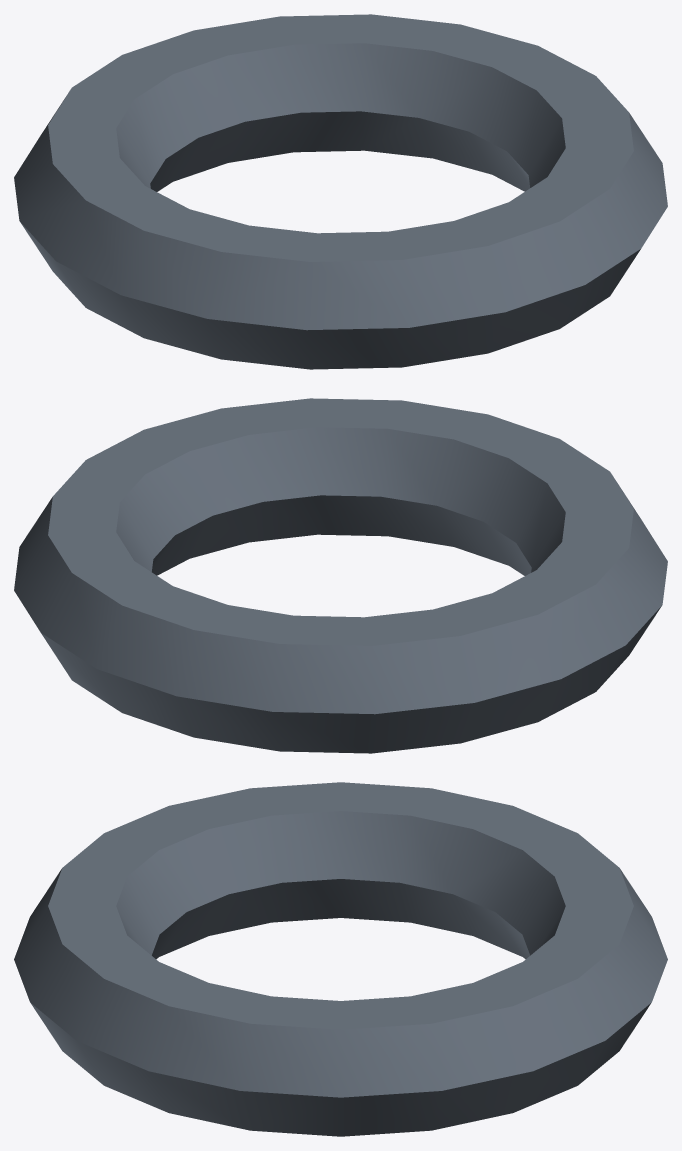
Rendered from collar.glb.
3 views of the same model, one above another, from view 1: azimuth 30°, elevation 25°; view 2: azimuth 150°, elevation 25°; view 3: azimuth 270°, elevation 25° (orthographic).
Visible parts, largest first — view 1: collar; view 2: collar; view 3: collar.
Boxes of the visible parts, x1,y1,x2,y2 form: collar: (14,14,667,369); collar: (14,398,667,753); collar: (14,782,667,1136).
Bounding box in the file's own units: 0.96 × 0.1732 × 0.96.
